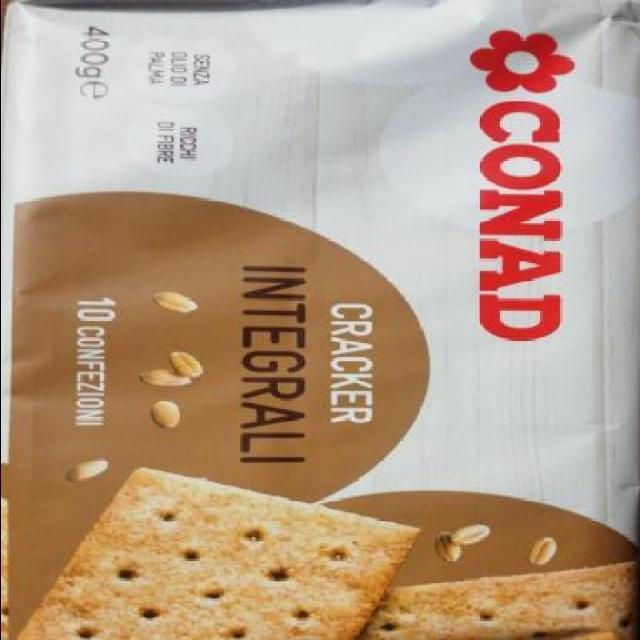Cracker: (2, 1, 640, 638)
